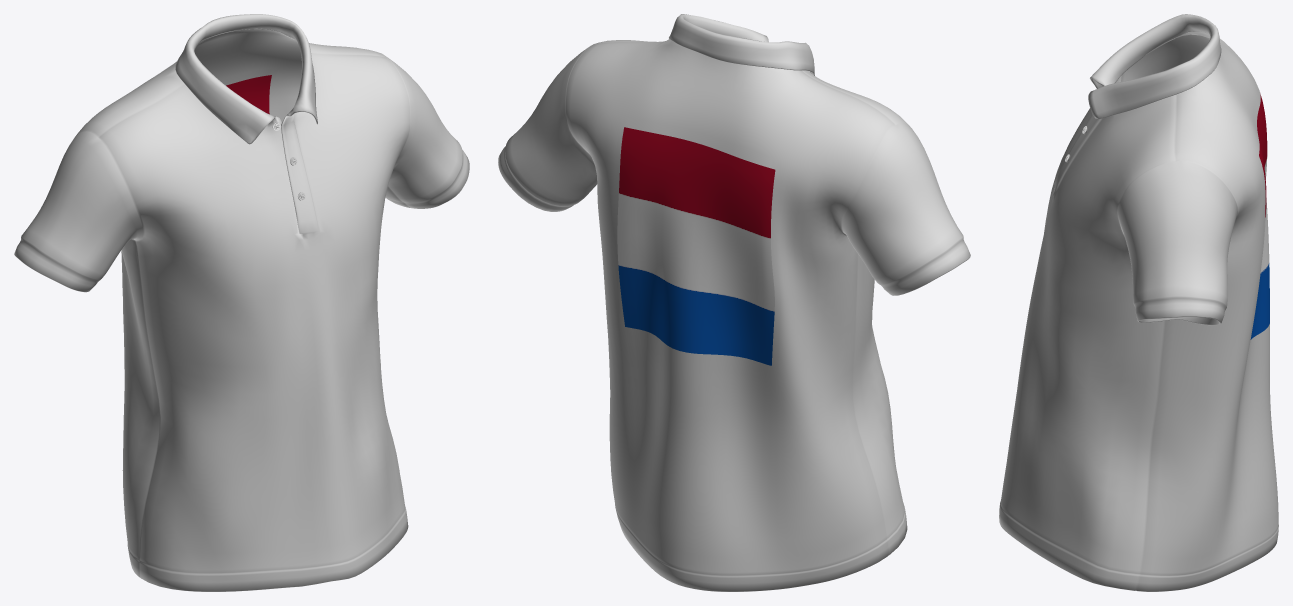
File: poloshirt.glb
3 views of the same model, side by side, from view 1: azimuth 30°, elevation 25°; view 2: azimuth 150°, elevation 25°; view 3: azimuth 270°, elevation 25° (orthographic). The views are drawn at different scales.
Visible parts, largest first — view 1: Mug_Porcelain_PBR002_0, Mug_Porcelain_PBR001_0; view 2: Mug_Porcelain_PBR002_0, Mug_Porcelain_PBR001_0; view 3: Mug_Porcelain_PBR002_0, Mug_Porcelain_PBR001_0.
Boxes of the visible parts, x1,y1,x2,y2 form: Mug_Porcelain_PBR002_0: (14,14,469,591); Mug_Porcelain_PBR001_0: (226,75,271,114); Mug_Porcelain_PBR002_0: (498,14,970,591); Mug_Porcelain_PBR001_0: (617,127,775,365); Mug_Porcelain_PBR002_0: (999,14,1278,591); Mug_Porcelain_PBR001_0: (1250,94,1269,339).
Size of the model in its own units: 0.6433 by 0.7101 by 0.3541.
2 materials, 1 textured.
